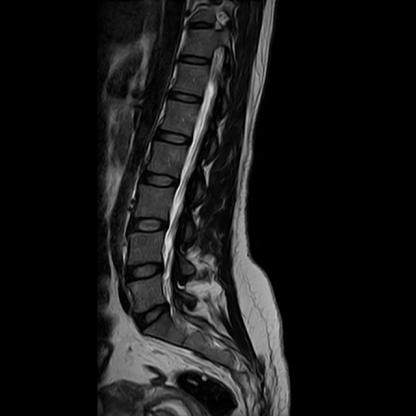Disc Bulgerotation: (125, 260, 168, 285), (134, 305, 174, 326)
